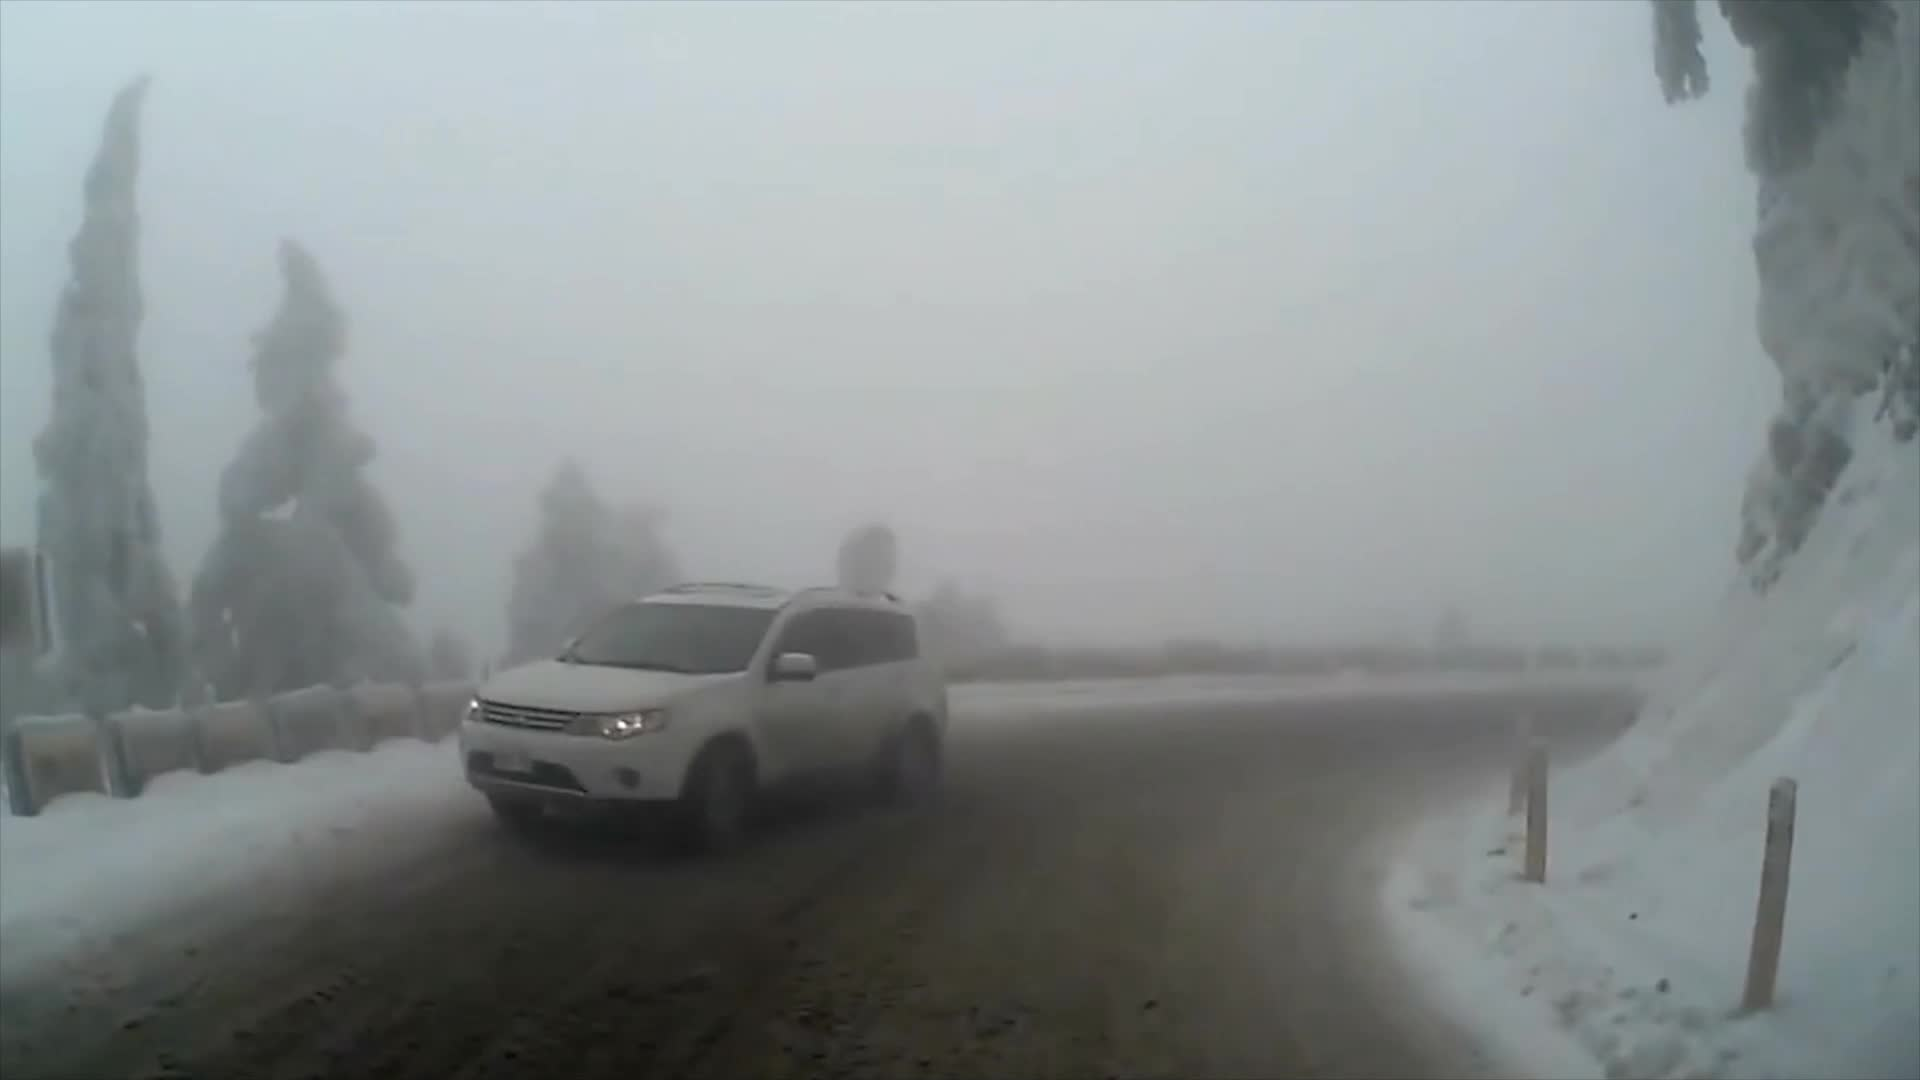vehicle: (454, 580, 951, 858)
